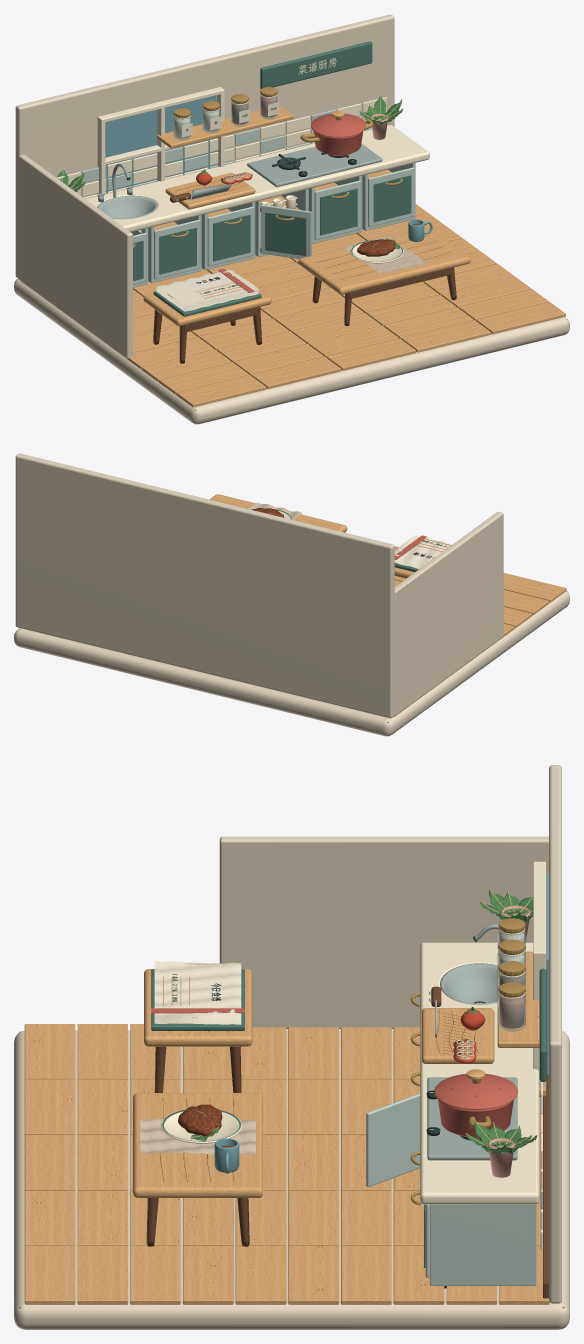
The model's file is kitchen.glb.
3 renders of one model, top to bottom at view 1: azimuth 30°, elevation 25°; view 2: azimuth 150°, elevation 25°; view 3: azimuth 270°, elevation 25°, orthographic. The views are drawn at different scales.
Visible parts, largest first — view 1: Back plaster.001, Left cutaway.001, Foundation bevel.002, Stone countertop, Solid oak tabletop.003, Recessed window.001, Stove stainless inset, Enamel title plaque.002, Layered curved paper.008, Recessed panel.003, Spice shelf, Staggered oak board.100 (+51 smaller); view 2: Back plaster.001, Left cutaway.001, Foundation bevel.002, Staggered oak board.100, Layered curved paper.008, Solid oak tabletop.003, Staggered oak board.105, Staggered oak board.110; view 3: Left cutaway.001, Foundation bevel.002, Stone countertop, Solid oak tabletop.003, Cabinet side panel.011, Back plaster.001, Layered curved paper.008, Raised door frame.003, Butcher block, Staggered oak board.104, Staggered oak board.124, Staggered oak board.114 (+51 smaller).
Part boxes in pixels (x1,y1,x2,y2): Back plaster.001: (15, 14, 394, 278); Left cutaway.001: (18, 154, 132, 358); Foundation bevel.002: (14, 279, 569, 424); Stone countertop: (86, 125, 429, 231); Solid oak tabletop.003: (298, 227, 470, 294); Recessed window.001: (105, 95, 216, 193); Stove stainless inset: (247, 143, 382, 187); Enamel title plaque.002: (260, 41, 372, 88); Layered curved paper.008: (156, 269, 258, 306); Recessed panel.003: (265, 212, 306, 255); Spice shelf: (157, 105, 293, 148); Staggered oak board.100: (176, 375, 266, 407); Back plaster.001: (15, 453, 394, 718); Left cutaway.001: (394, 511, 503, 716); Foundation bevel.002: (14, 591, 569, 736); Staggered oak board.100: (503, 573, 566, 602); Layered curved paper.008: (394, 535, 451, 565); Solid oak tabletop.003: (210, 494, 347, 532); Staggered oak board.105: (503, 590, 549, 615); Staggered oak board.110: (503, 606, 531, 628); Left cutaway.001: (219, 836, 548, 1029); Foundation bevel.002: (14, 1030, 569, 1329); Stone countertop: (420, 942, 539, 1204); Solid oak tabletop.003: (133, 1093, 262, 1197); Cabinet side panel.011: (430, 1204, 536, 1282); Back plaster.001: (549, 765, 561, 1303); Layered curved paper.008: (154, 961, 241, 1018); Raised door frame.003: (366, 1093, 420, 1186); Butcher block: (422, 1008, 494, 1063); Staggered oak board.104: (24, 1246, 75, 1304); Staggered oak board.124: (235, 1246, 286, 1304); Staggered oak board.114: (130, 1246, 180, 1304).
Bounding box in the file's own units: 9.2 × 4.43 × 7.7.
33 materials, 3 textured.
